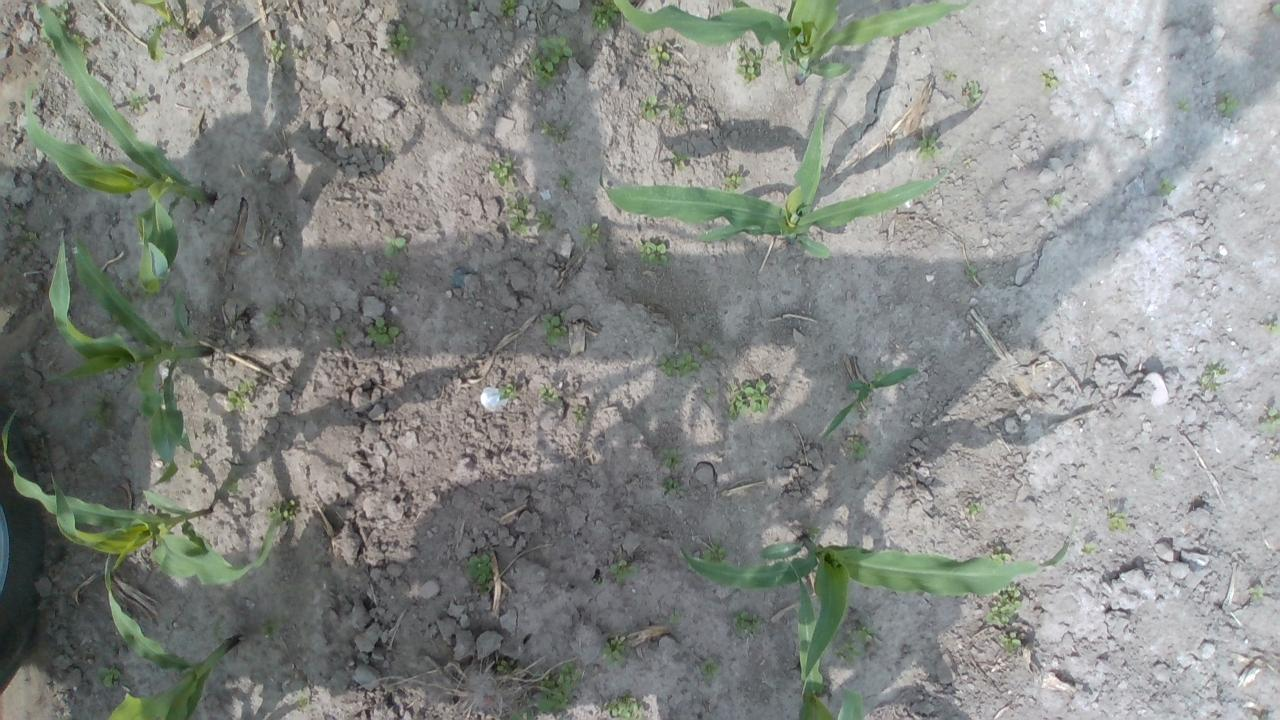Maize: (675, 532, 1074, 700), (21, 0, 216, 297), (599, 108, 954, 262), (2, 409, 281, 585), (46, 226, 214, 486), (613, 0, 976, 86), (102, 553, 239, 720), (781, 555, 868, 720), (820, 366, 920, 442), (131, 0, 197, 63)
Weeds: (526, 35, 575, 89), (534, 660, 582, 715), (724, 380, 770, 420), (984, 584, 1022, 626), (83, 390, 117, 430), (604, 689, 647, 720), (462, 554, 493, 596), (657, 350, 699, 378), (588, 0, 622, 33), (504, 194, 530, 236), (365, 316, 401, 346), (387, 22, 419, 54), (730, 608, 764, 638), (601, 634, 631, 667), (489, 152, 515, 190), (736, 46, 762, 84), (833, 632, 863, 664), (541, 310, 569, 344), (540, 117, 572, 146), (1196, 362, 1226, 392), (228, 378, 255, 410), (636, 239, 668, 266), (916, 130, 942, 160), (701, 539, 730, 565), (608, 560, 638, 583), (698, 657, 720, 686), (96, 666, 122, 690), (509, 698, 537, 720), (1258, 407, 1280, 435), (660, 446, 684, 470), (127, 90, 149, 116), (639, 94, 661, 120), (964, 80, 982, 111), (379, 268, 402, 292), (647, 45, 670, 69), (578, 222, 602, 245), (1216, 93, 1240, 116), (382, 236, 407, 258), (536, 209, 558, 233), (998, 630, 1022, 652), (430, 80, 450, 106), (262, 303, 284, 326), (1039, 68, 1059, 93), (722, 170, 744, 192), (661, 476, 685, 496), (856, 620, 876, 644), (988, 545, 1013, 564), (220, 474, 242, 495), (50, 3, 70, 26), (692, 343, 718, 360), (1107, 510, 1129, 530), (666, 102, 685, 125), (671, 148, 689, 172), (556, 169, 575, 191), (72, 33, 95, 51), (260, 618, 280, 638), (21, 228, 43, 246), (269, 40, 287, 62), (1156, 177, 1176, 196), (538, 384, 559, 402), (328, 326, 345, 348), (279, 500, 296, 522), (498, 383, 520, 400), (850, 438, 867, 460), (774, 48, 794, 66), (102, 310, 120, 330), (8, 208, 28, 226), (499, 0, 519, 18), (1046, 192, 1065, 210), (459, 86, 475, 106), (122, 272, 139, 290), (496, 658, 515, 674), (296, 691, 310, 712), (1262, 319, 1280, 335), (572, 406, 590, 420), (1248, 585, 1265, 599), (965, 264, 978, 282), (965, 501, 982, 514), (1178, 96, 1192, 111), (809, 523, 821, 540), (668, 610, 682, 624), (266, 503, 278, 519), (1150, 463, 1162, 479), (701, 388, 714, 402), (1271, 1, 1280, 20), (1082, 544, 1098, 554), (188, 458, 202, 468), (944, 70, 958, 80), (592, 577, 602, 587), (466, 0, 475, 11), (873, 369, 884, 378)
